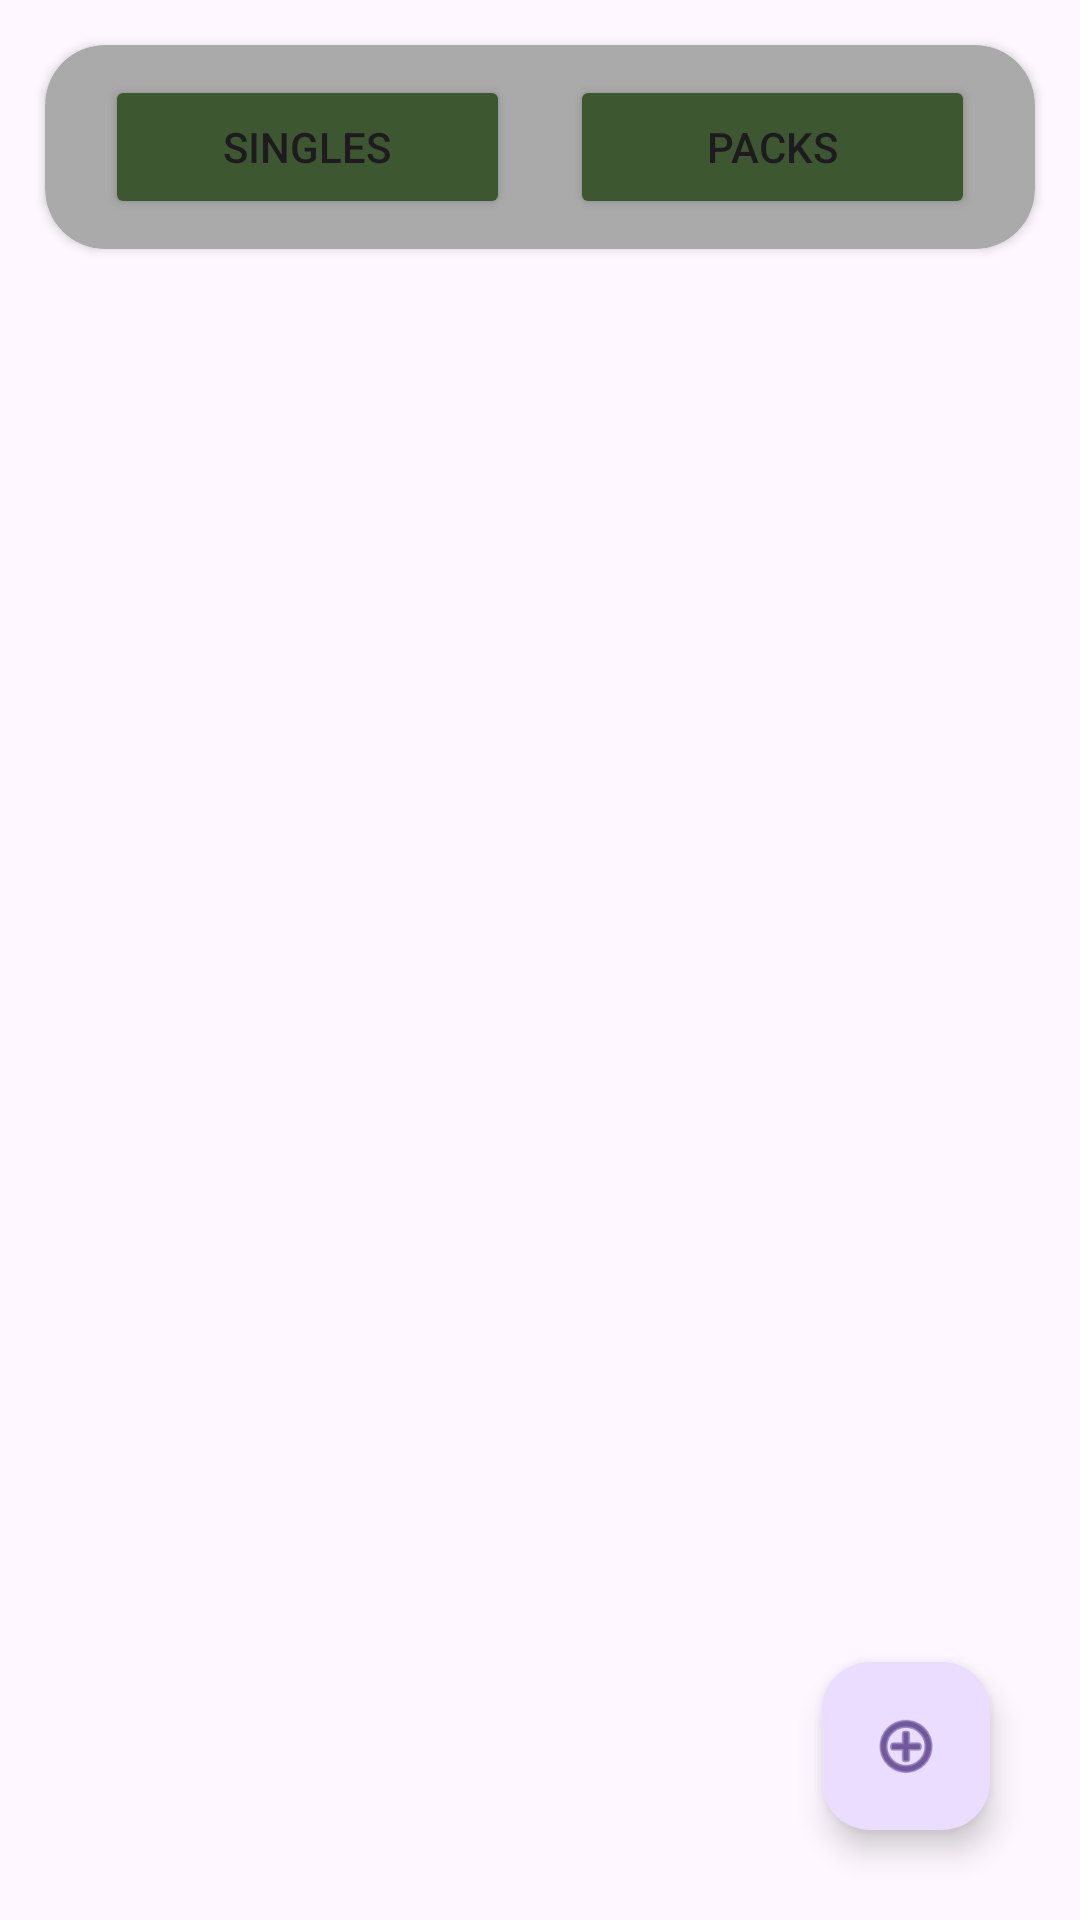

Named icons in this screenshot (1080 x 1920) and their bounding boxes, (x1, y1, x2, y2):
add: (822, 1662, 990, 1830)
